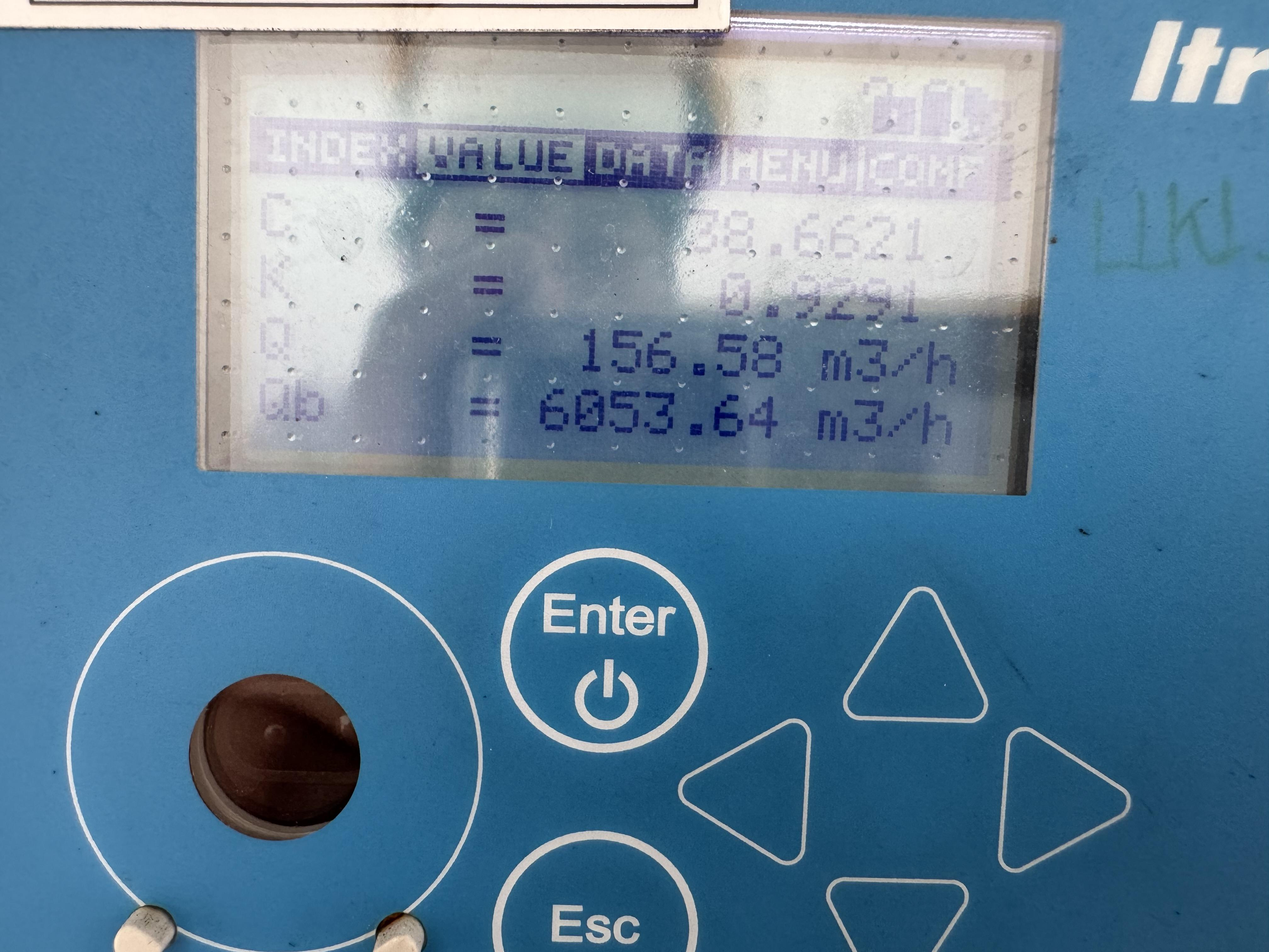digital_screen: (182, 0, 1060, 496)
